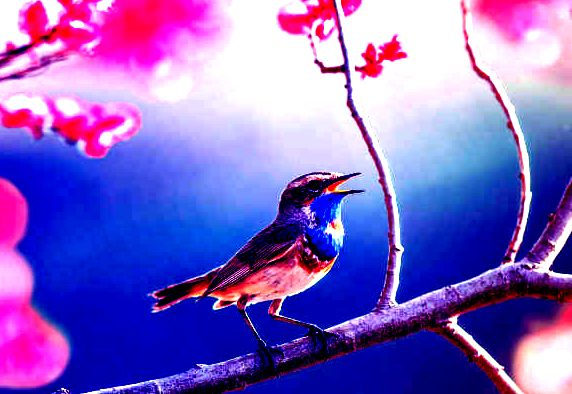Bird: (147, 166, 374, 364)
